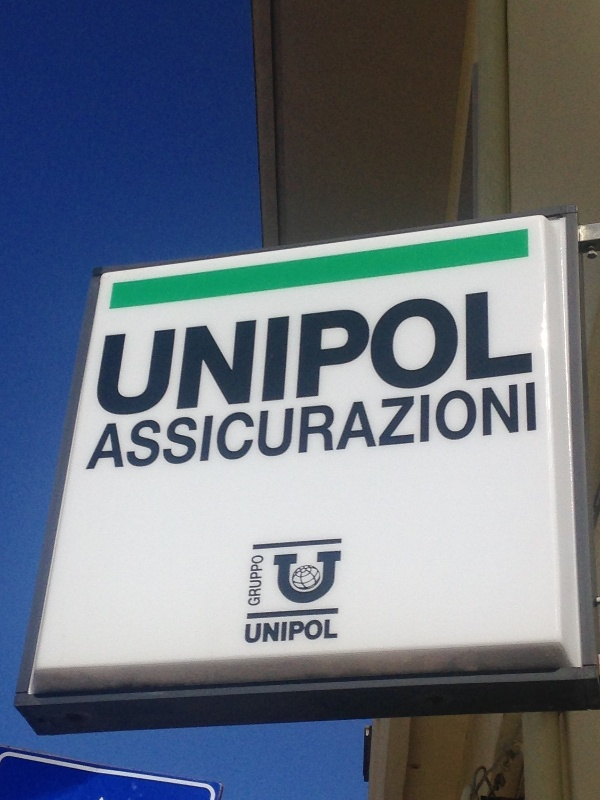text: (113, 281, 128, 424), (129, 281, 144, 424), (145, 281, 160, 424), (161, 281, 176, 424), (177, 281, 192, 424), (193, 281, 208, 424), (209, 281, 224, 424), (225, 281, 240, 424), (241, 281, 256, 424), (257, 281, 272, 424), (273, 281, 288, 424), (289, 281, 304, 424), (305, 281, 320, 424), (321, 281, 336, 424), (337, 281, 352, 424), (353, 281, 368, 424), (369, 281, 384, 424), (385, 281, 400, 424), (401, 281, 416, 424), (417, 281, 432, 424), (433, 281, 448, 424), (449, 281, 464, 424), (465, 281, 480, 424), (481, 281, 496, 424), (497, 281, 512, 424), (513, 281, 528, 424), (529, 281, 543, 424), (113, 380, 128, 477), (129, 380, 144, 477), (145, 380, 160, 477), (161, 380, 176, 477), (177, 380, 192, 477), (193, 380, 208, 477), (209, 380, 224, 477), (225, 380, 240, 477), (241, 380, 256, 477), (257, 380, 272, 477), (273, 380, 288, 477), (289, 380, 304, 477), (305, 380, 320, 477), (321, 380, 336, 477), (337, 380, 352, 477), (353, 380, 368, 477), (369, 380, 384, 477), (385, 380, 400, 477), (401, 380, 416, 477), (417, 380, 432, 477), (433, 380, 448, 477), (449, 380, 464, 477), (465, 380, 480, 477), (481, 380, 496, 477), (497, 380, 512, 477), (513, 380, 528, 477), (529, 380, 541, 477), (101, 380, 112, 477), (105, 281, 112, 424), (273, 551, 288, 607), (289, 551, 304, 607), (305, 551, 320, 607), (321, 551, 336, 607), (257, 619, 272, 645), (273, 619, 288, 645), (289, 619, 304, 645), (305, 619, 320, 645), (321, 619, 336, 645), (257, 555, 264, 607), (337, 551, 342, 607), (246, 619, 256, 645), (252, 555, 256, 607), (337, 619, 338, 645)
